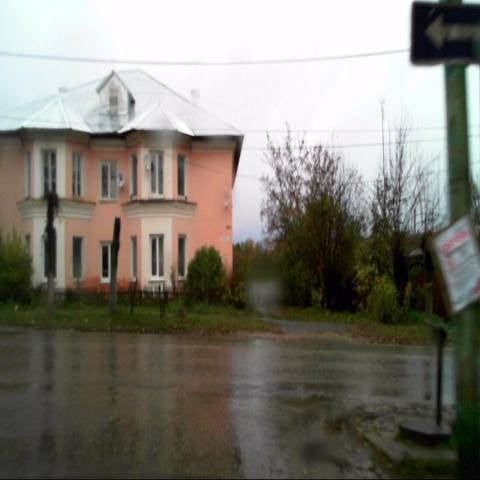5_7_2: (410, 1, 480, 64)
